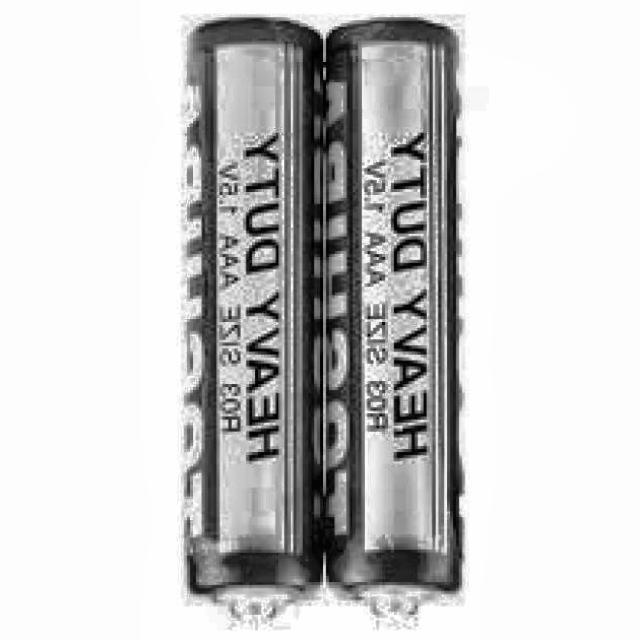battery: (323, 19, 461, 626), (187, 24, 320, 625)
